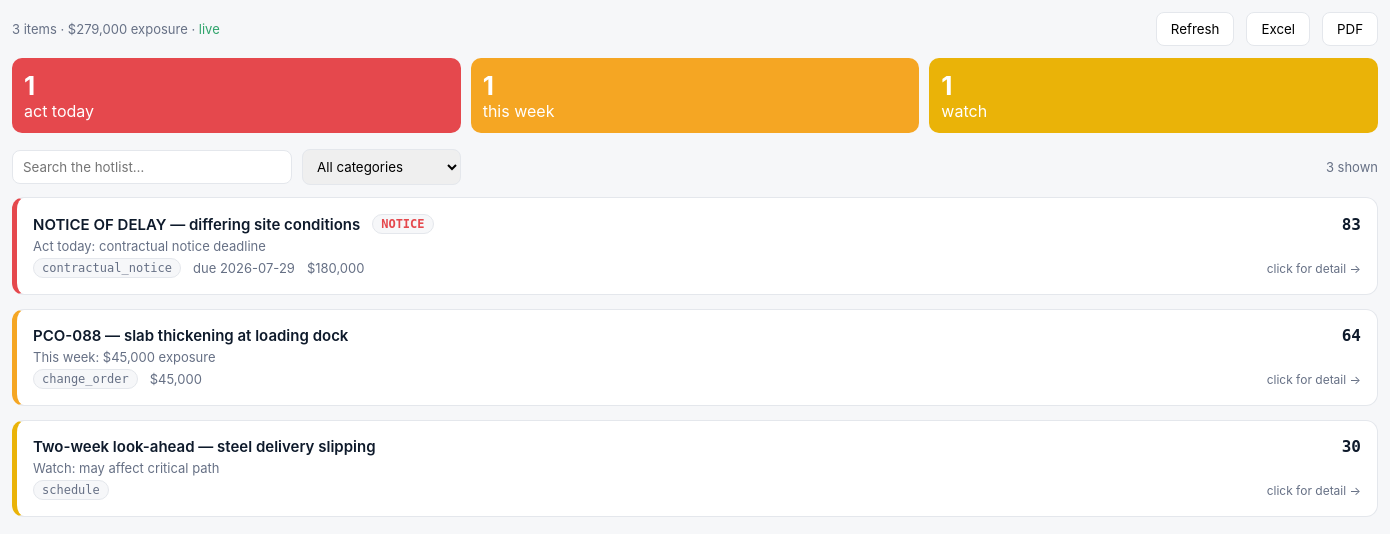
HotlistView › filters to one bucket when its tile is clicked, and restores on a second click
expect the text "NOTICE OF DELAY — differing site conditions" is shown: met, box 33,214 -> 360,234
Click the text "act today". click: (59, 111)
box: 24,101 -> 94,121
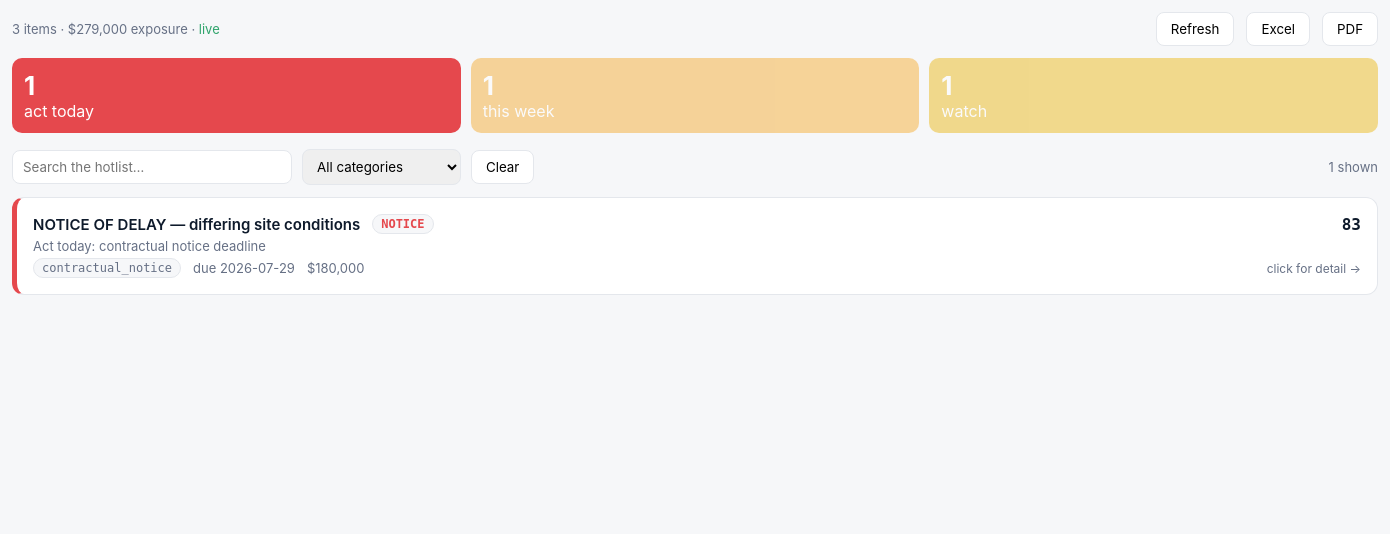
expect the text "NOTICE OF DELAY — differing site conditions" is shown: met, box 33,214 -> 360,234
expect the text "PCO-088" is gone: met
expect the text "1 shown" is shown: met, box 1329,159 -> 1378,175
Click the text "act today". click: (59, 111)
box: 24,101 -> 94,121
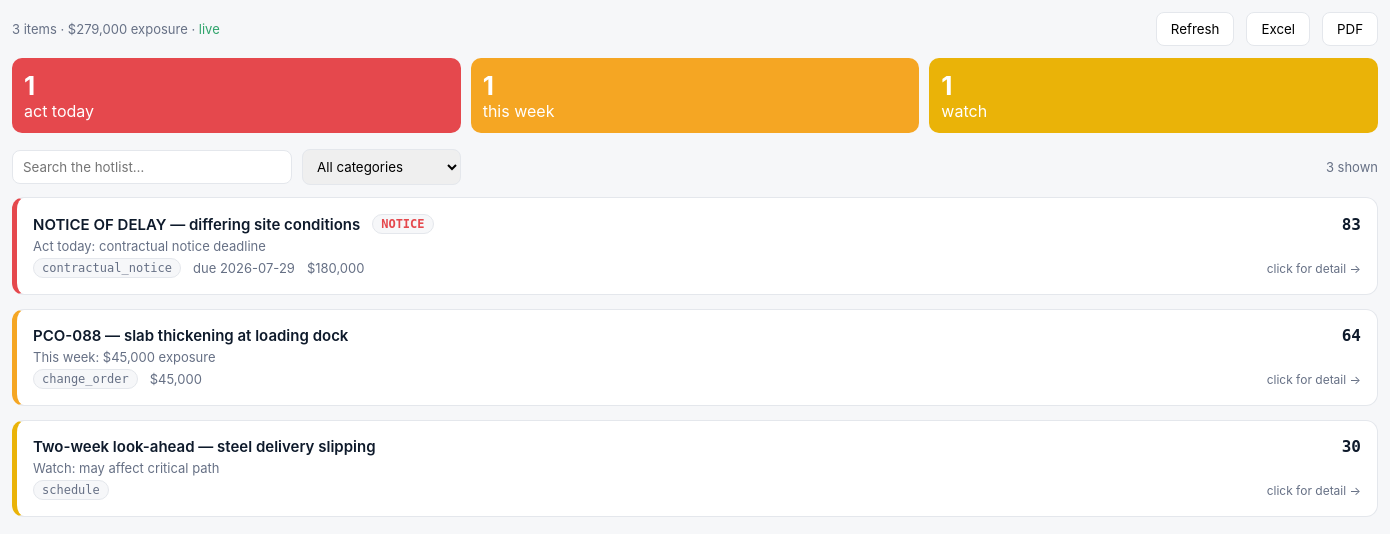
expect the text "PCO-088 — slab thickening at loading dock" is shown: met, box 33,326 -> 348,345
